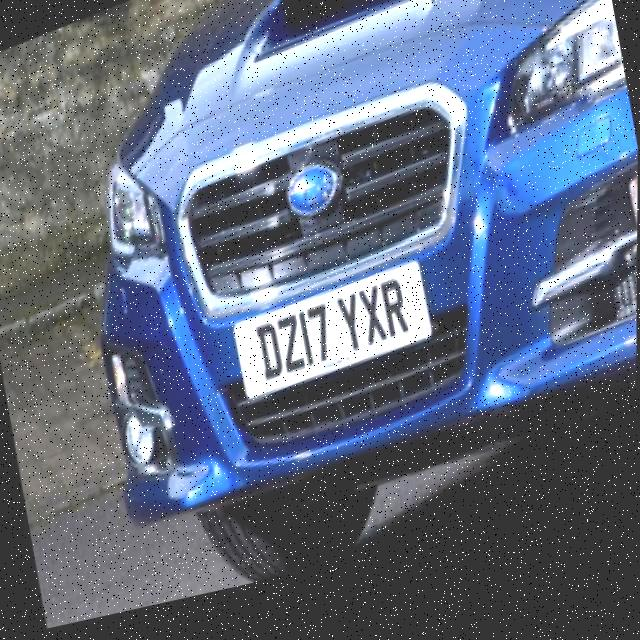license_plate: (240, 273, 410, 420)
